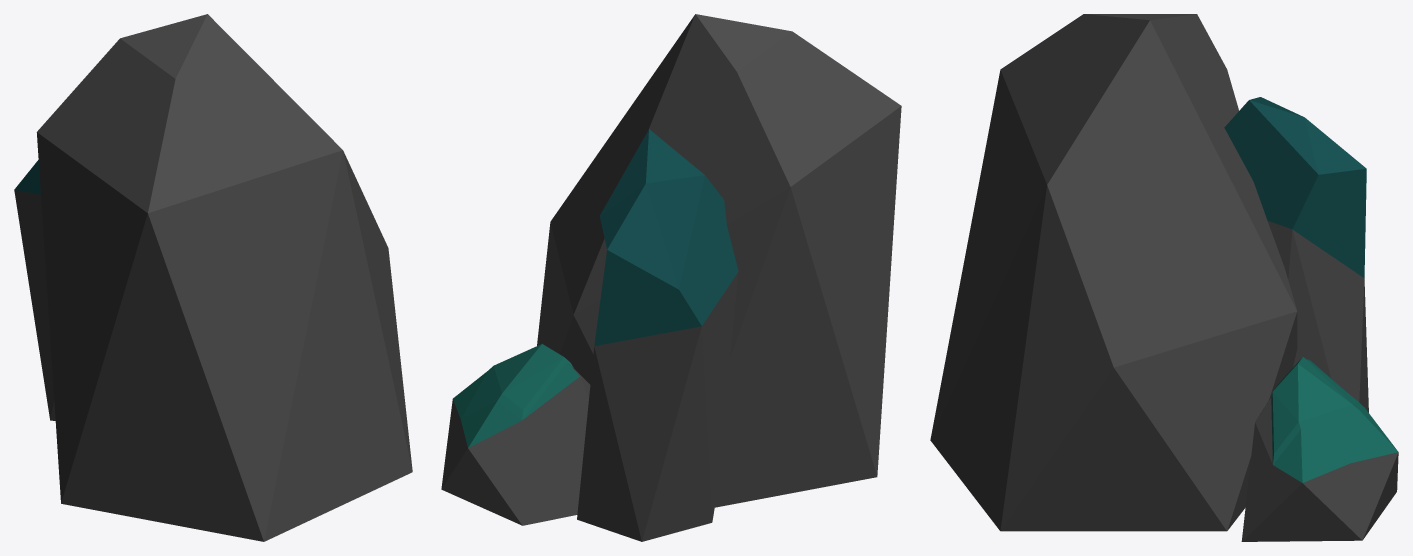
File: Rock1.fbx
The picture shows the model from 3 angles, left to right: view 1: azimuth 30°, elevation 25°; view 2: azimuth 150°, elevation 25°; view 3: azimuth 270°, elevation 25°; orthographic projection. The views are drawn at different scales.
Visible parts, largest first — view 1: Cube; view 2: Cube; view 3: Cube.
Boxes of the visible parts, box(x1,y1,x2,y2) form: Cube: box(14, 14, 412, 541); Cube: box(441, 14, 901, 541); Cube: box(930, 14, 1398, 541).
Size of the model in its own units: 1.82 by 2.28 by 2.17.
